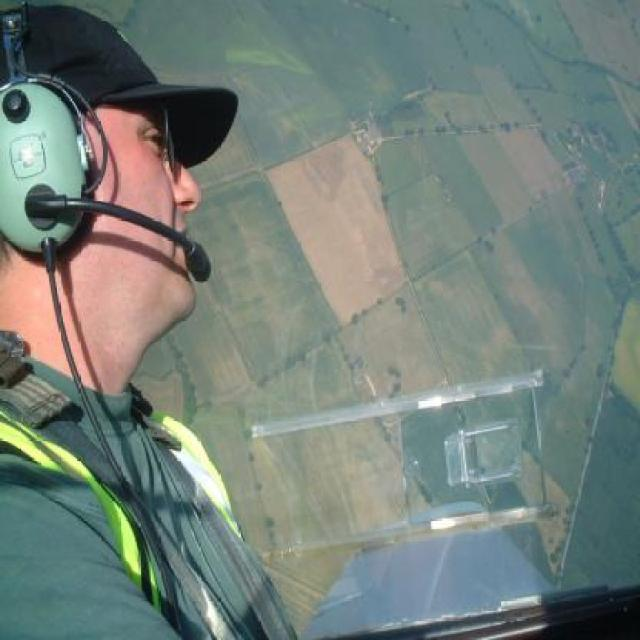earphone: (2, 3, 136, 274)
